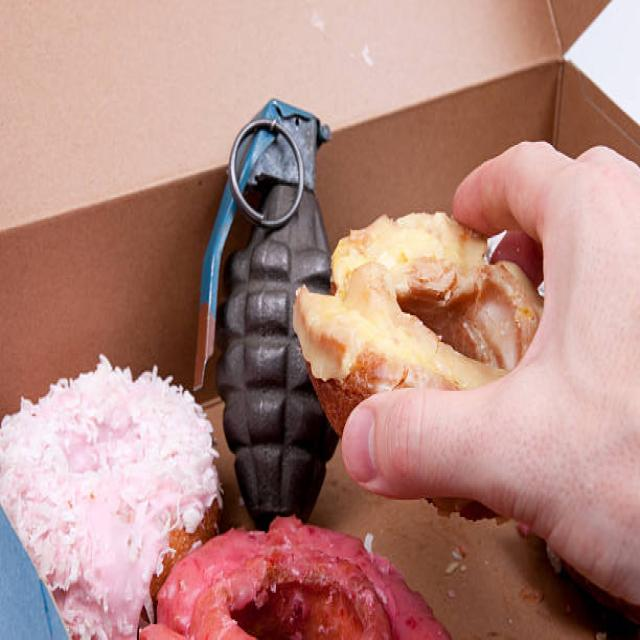grenade: (190, 89, 356, 528)
